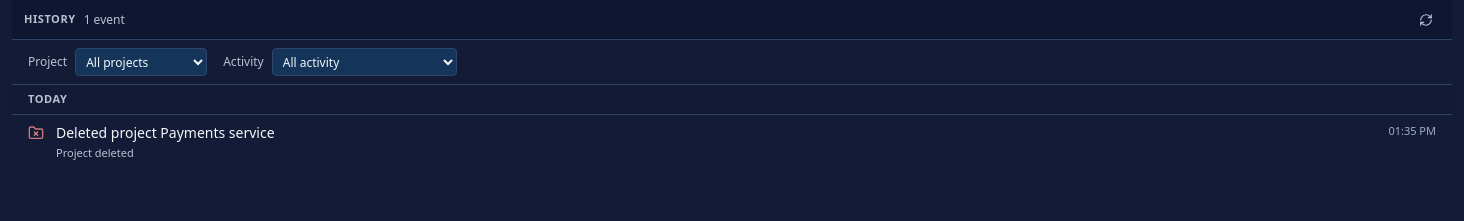
HistoryPage › marks deleted projects instead of linking to them
The image size is (1464, 221).
Click the button "Deleted project Payments service Project deleted 01:35 PM" at (165, 132), box [12,114,1452,169]
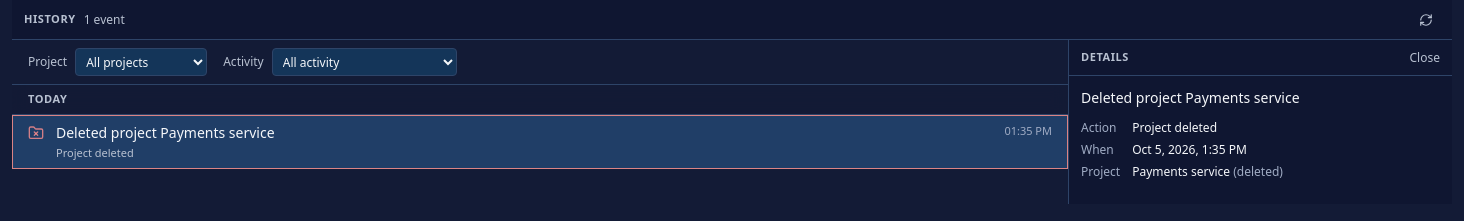
Expected: the text "(deleted)" is shown, [1233,163,1283,180]
